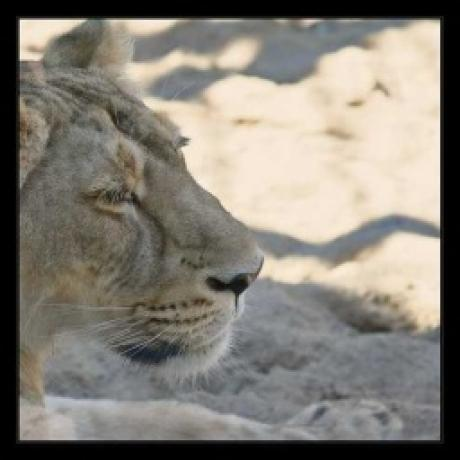Lion: (20, 19, 268, 434)
